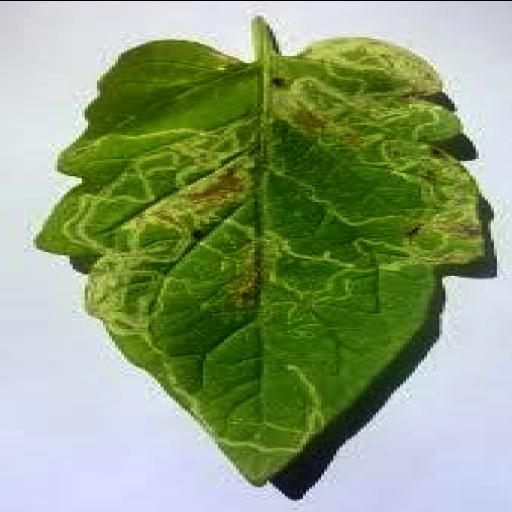disease_tomato: (37, 36, 489, 486)
